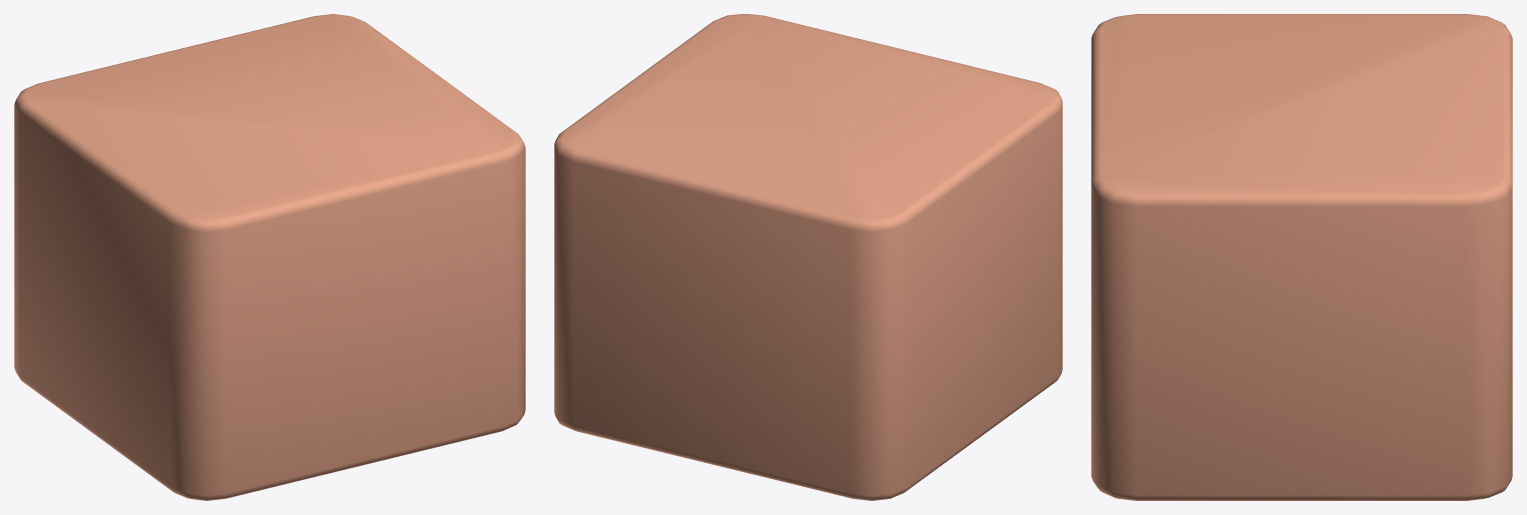
The model's file is island_lv7_1.fbx.
The picture shows the model from 3 angles, left to right: view 1: azimuth 30°, elevation 25°; view 2: azimuth 150°, elevation 25°; view 3: azimuth 270°, elevation 25°; orthographic projection. The views are drawn at different scales.
Parts seen in each view (by area): view 1: island_lv7_1; view 2: island_lv7_1; view 3: island_lv7_1.
Part boxes in pixels (x1,y1,x2,y2): island_lv7_1: (14,14,525,500); island_lv7_1: (554,14,1062,500); island_lv7_1: (1091,14,1512,500).
Size of the model in its own units: 652 by 500 by 622.
